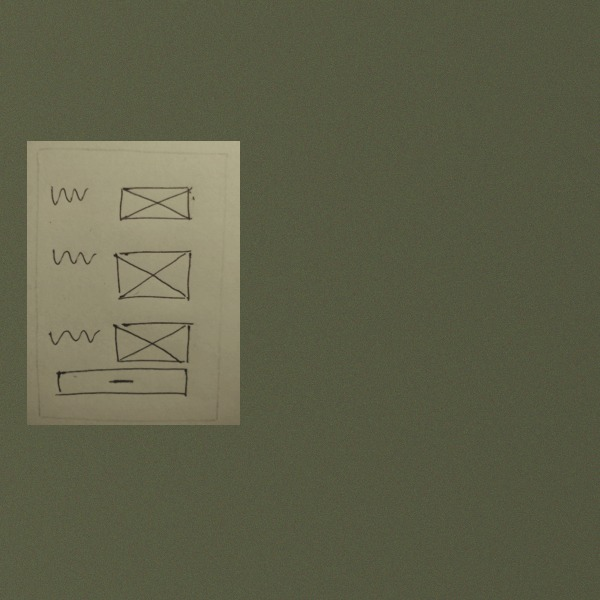button: (50, 366, 194, 401)
image: (112, 246, 196, 305), (109, 317, 196, 369), (114, 181, 198, 230)
text: (46, 323, 101, 350), (47, 246, 100, 271), (47, 181, 90, 210)
